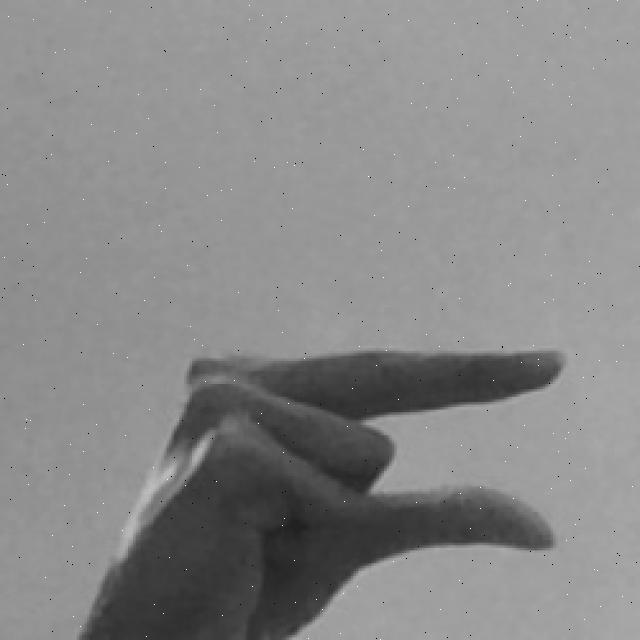G: (74, 344, 568, 640)
